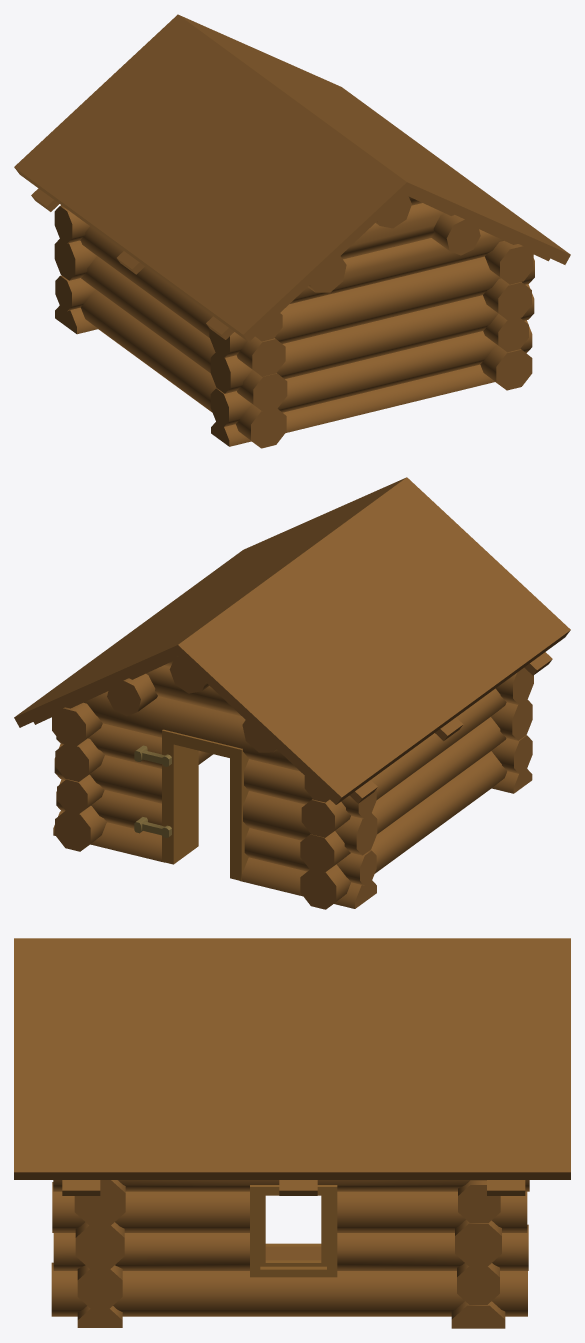
File: house.fbx
3 views of the same model, one above another, from view 1: azimuth 30°, elevation 25°; view 2: azimuth 150°, elevation 25°; view 3: azimuth 270°, elevation 25° (orthographic). The views are drawn at different scales.
Visible parts, largest first — view 1: House; view 2: House; view 3: House.
Boxes of the visible parts, left/top/right/bottom form: House: left=14, top=14, right=570, bottom=448; House: left=14, top=477, right=570, bottom=909; House: left=14, top=938, right=570, bottom=1328.
Bounding box in the file's own units: 602 × 431 × 721.
